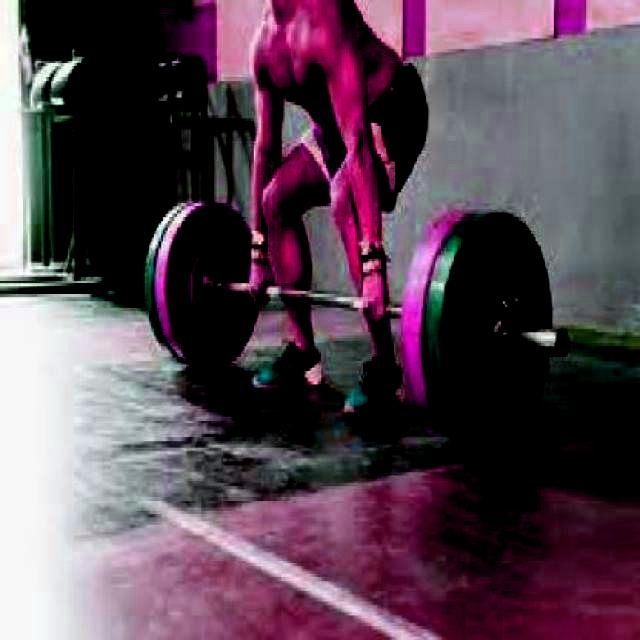barbell: (409, 196, 570, 457)
